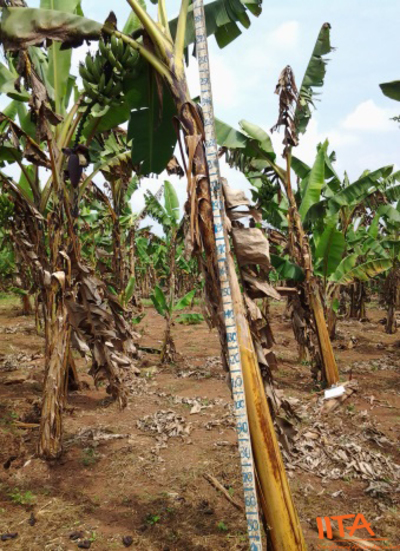bananaHand: (75, 30, 151, 107)
